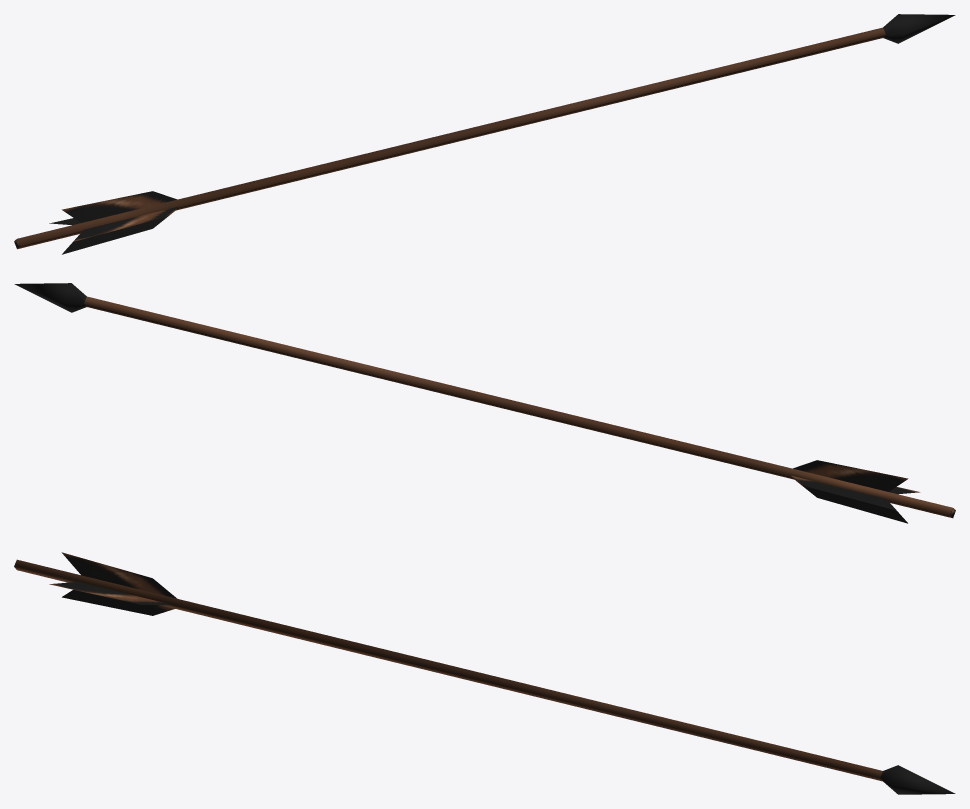
The model's file is wooden_arrow_01.fbx.
The picture shows the model from 3 angles, top to bottom: view 1: azimuth 30°, elevation 25°; view 2: azimuth 150°, elevation 25°; view 3: azimuth 330°, elevation 25°; orthographic projection.
Parts seen in each view (by area): view 1: arrow_01; view 2: arrow_01; view 3: arrow_01.
Boxes of the visible parts, x1,y1,x2,y2 form: arrow_01: (14, 14, 955, 254); arrow_01: (14, 283, 955, 523); arrow_01: (14, 552, 955, 794).
Bounding box in the file's own units: 2.97 × 0.1364 × 0.1364.
